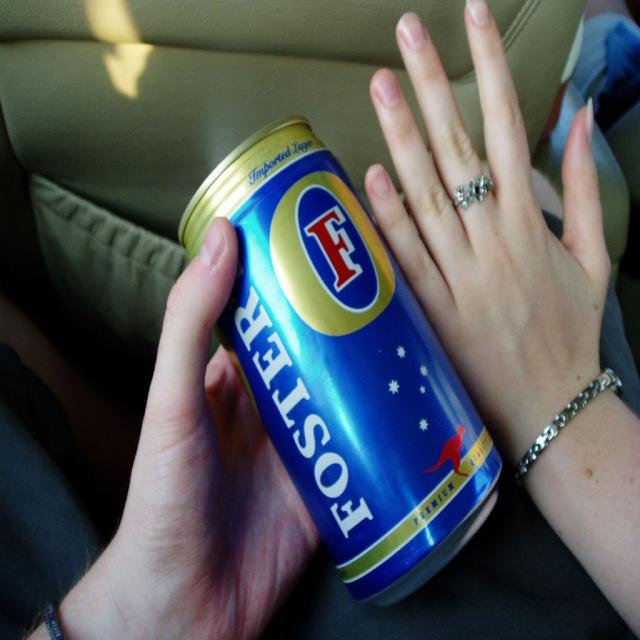fosters: (268, 170, 397, 342)
